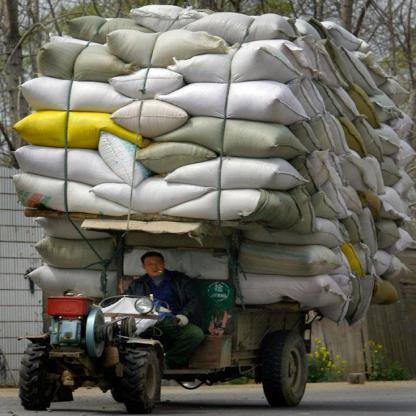overloaded-truck: (21, 9, 415, 322)
